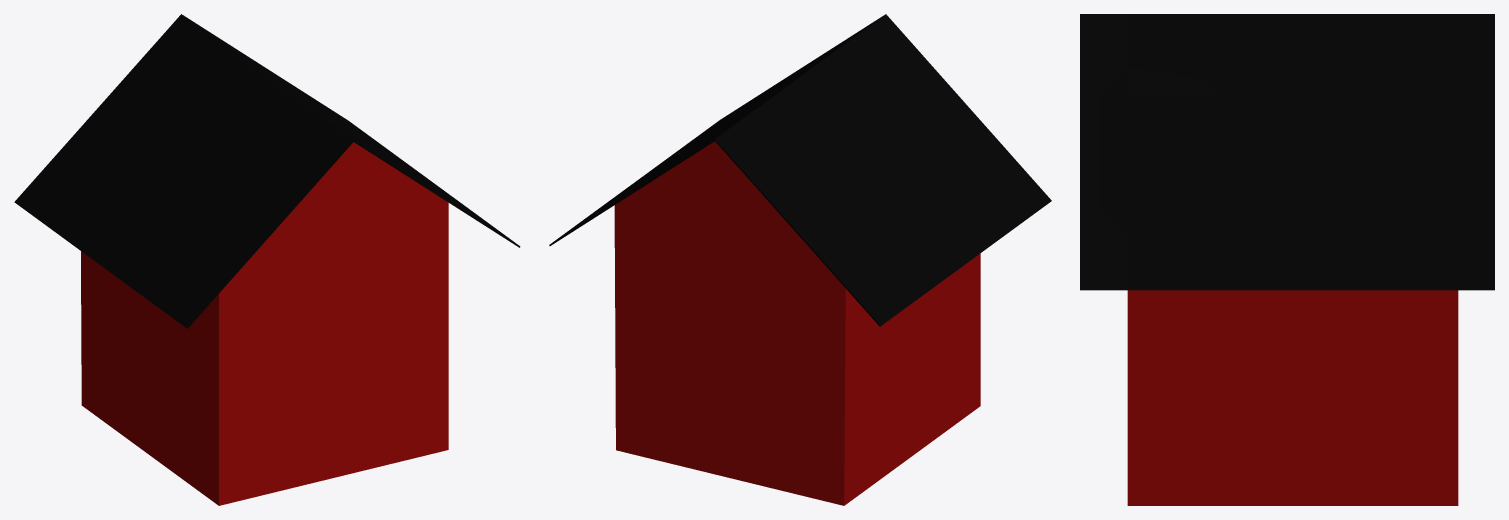
Rendered from environmentmodel3.fbx.
3 renders of one model, left to right at view 1: azimuth 30°, elevation 25°; view 2: azimuth 150°, elevation 25°; view 3: azimuth 270°, elevation 25°, orthographic. The views are drawn at different scales.
Visible parts, largest first — view 1: Cube; view 2: Cube; view 3: Cube.
Part boxes in pixels (bbox=[...]): Cube: bbox=[14, 14, 520, 505]; Cube: bbox=[549, 14, 1051, 505]; Cube: bbox=[1080, 14, 1494, 505].
Bounding box in the file's own units: 7.26 × 7.31 × 6.48.
